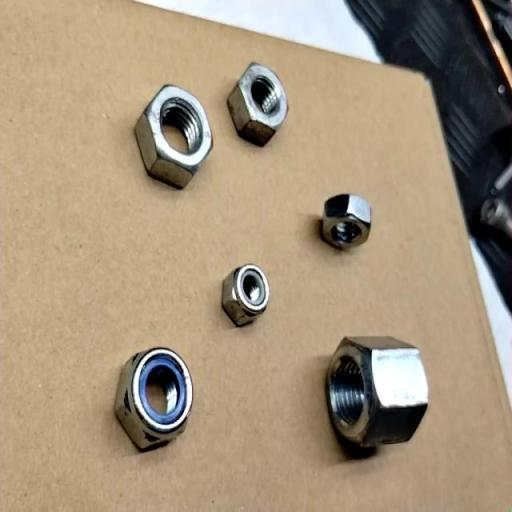Nut: (324, 334, 431, 459), (113, 346, 195, 454), (134, 84, 214, 190), (226, 62, 289, 148), (220, 263, 271, 328), (319, 192, 373, 251)
